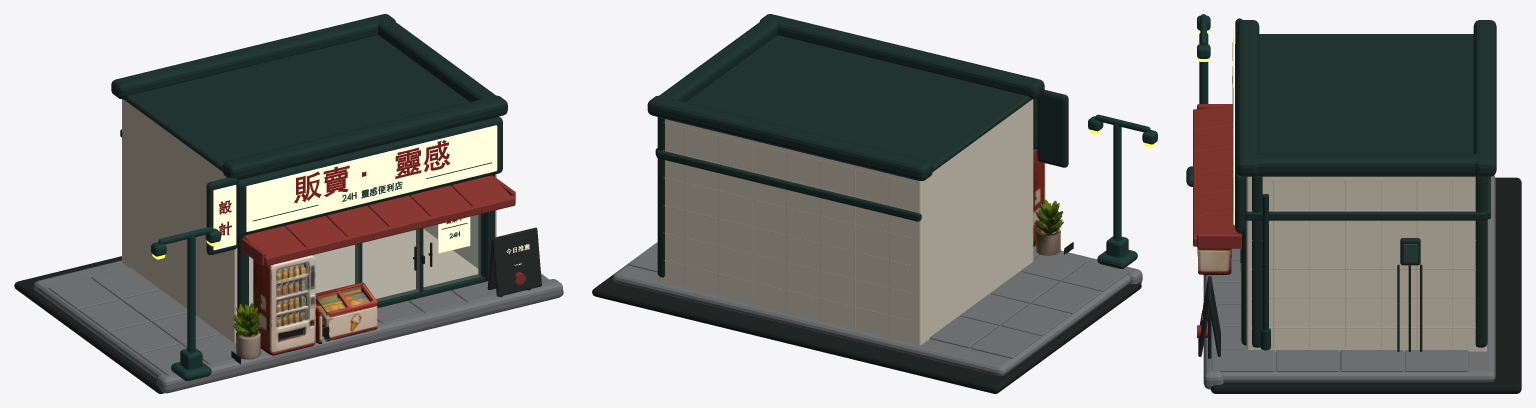
The model's file is store-exterior.glb.
3 views of the same model, side by side, from view 1: azimuth 30°, elevation 25°; view 2: azimuth 150°, elevation 25°; view 3: azimuth 270°, elevation 25° (orthographic). The views are drawn at different scales.
Visible parts, largest first — view 1: Roof cover, Left wall, Main sign inset, Interior floor, Front curb, Roof crown front, vending_source, Roof crown back, Left door, Main sign frame, freezer_source, Roof crown right (+36 smaller); view 2: Back wall, Roof cover, Left wall, Foundation shadow base, Sidewalk slab, Roof crown back, Roof crown front, Roof crown right, Back mid rail, Blade sign frame, plant_source, Sidewalk tile -1-3 (+11 smaller); view 3: Right wall, Roof cover, Foundation shadow base, Sidewalk slab, Roof crown right, Roof crown back, Roof crown front, Right mid rail, Right corner post 1.92, Right corner post -1.82, Sidewalk tile 7-0, Sidewalk tile 7-1 (+26 smaller).
Boxes of the visible parts, x1,y1,x2,y2 form: Roof cover: [123, 35, 499, 180]; Left wall: [125, 100, 237, 342]; Main sign inset: [246, 125, 497, 231]; Interior floor: [249, 229, 478, 306]; Front curb: [157, 279, 562, 393]; Roof crown front: [222, 95, 507, 179]; vending_source: [253, 255, 322, 355]; Roof crown back: [111, 14, 395, 99]; Left door: [362, 229, 419, 301]; Main sign frame: [237, 117, 502, 236]; freezer_source: [315, 282, 377, 341]; Roof crown right: [377, 16, 498, 101]; Back wall: [658, 119, 924, 344]; Roof cover: [657, 35, 1031, 180]; Left wall: [922, 99, 1033, 343]; Foundation shadow base: [592, 265, 1141, 393]; Sidewalk slab: [613, 254, 1130, 376]; Roof crown back: [647, 95, 932, 180]; Roof crown front: [759, 14, 1044, 99]; Roof crown right: [659, 16, 778, 101]; Back mid rail: [656, 150, 921, 221]; Blade sign frame: [1037, 90, 1068, 167]; plant_source: [1034, 199, 1073, 255]; Sidewalk tile -1-3: [970, 326, 1041, 358]; Right wall: [1246, 176, 1479, 351]; Roof cover: [1255, 34, 1477, 176]; Foundation shadow base: [1211, 177, 1521, 393]; Sidewalk slab: [1222, 175, 1495, 382]; Roof crown right: [1244, 153, 1487, 175]; Roof crown back: [1473, 20, 1496, 176]; Roof crown front: [1236, 20, 1259, 176]; Right mid rail: [1245, 211, 1486, 220]; Right corner post 1.92: [1475, 176, 1487, 347]; Right corner post -1.82: [1252, 176, 1262, 347]; Sidewalk tile 7-0: [1211, 349, 1274, 371]; Sidewalk tile 7-1: [1276, 350, 1339, 371].
Bounding box in the file's own units: 8.54 × 3.89 × 5.61.
Materials: 18 (1 with a texture image).
